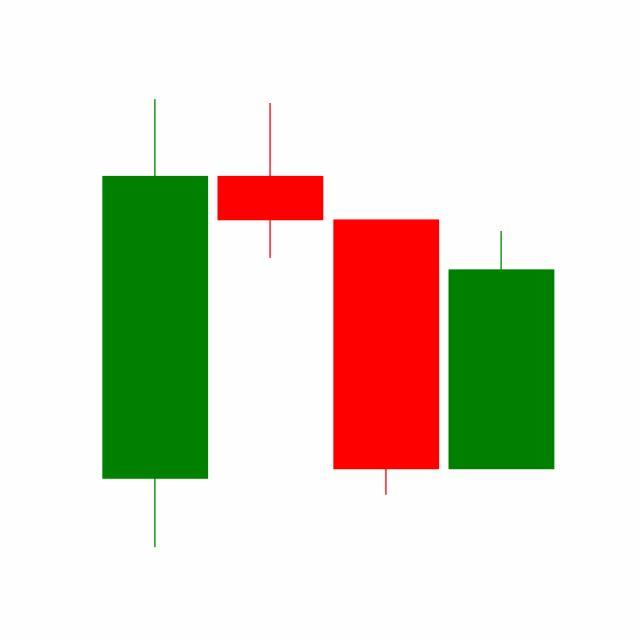Marubozu: (329, 217, 445, 499)
